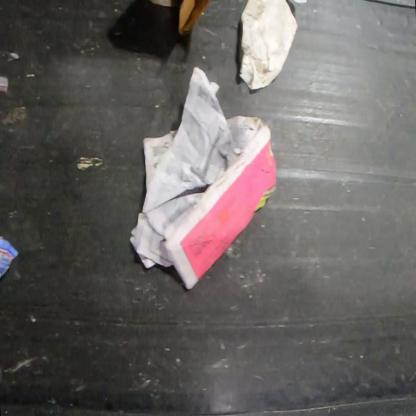cardboard: (150, 0, 210, 39)
soft_plastic: (0, 232, 21, 280)
